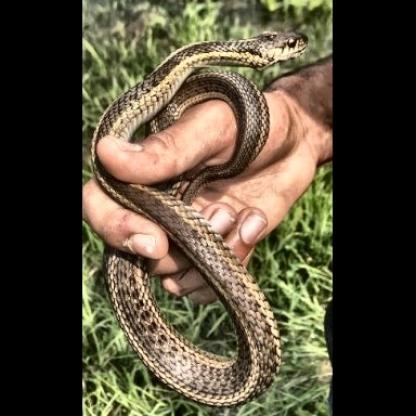Snake: (93, 23, 317, 408)
